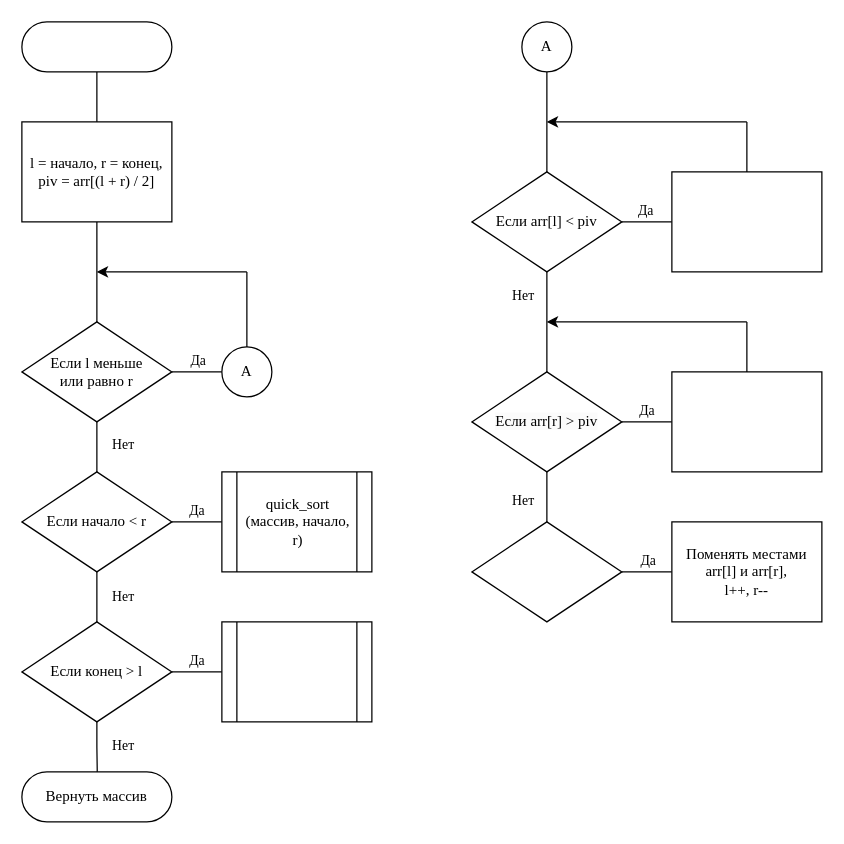
Some shapes in this 844 by 844 pixel diagram are drawn without their labels. Here are the shapes that lost their labels. From the top down, the box of each, then its label:
(21, 21, 172, 72): quick_sort(массив. начало, конец)
(671, 171, 822, 272): l++
(671, 371, 822, 472): r--
(471, 521, 622, 622): Если l <= r
(221, 621, 372, 722): quick_sort (массив, l, конец)
